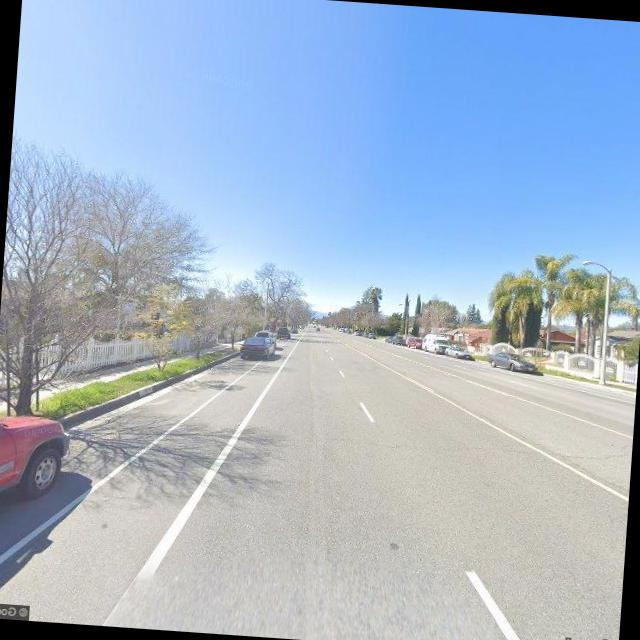crack: (267, 420, 622, 472)
